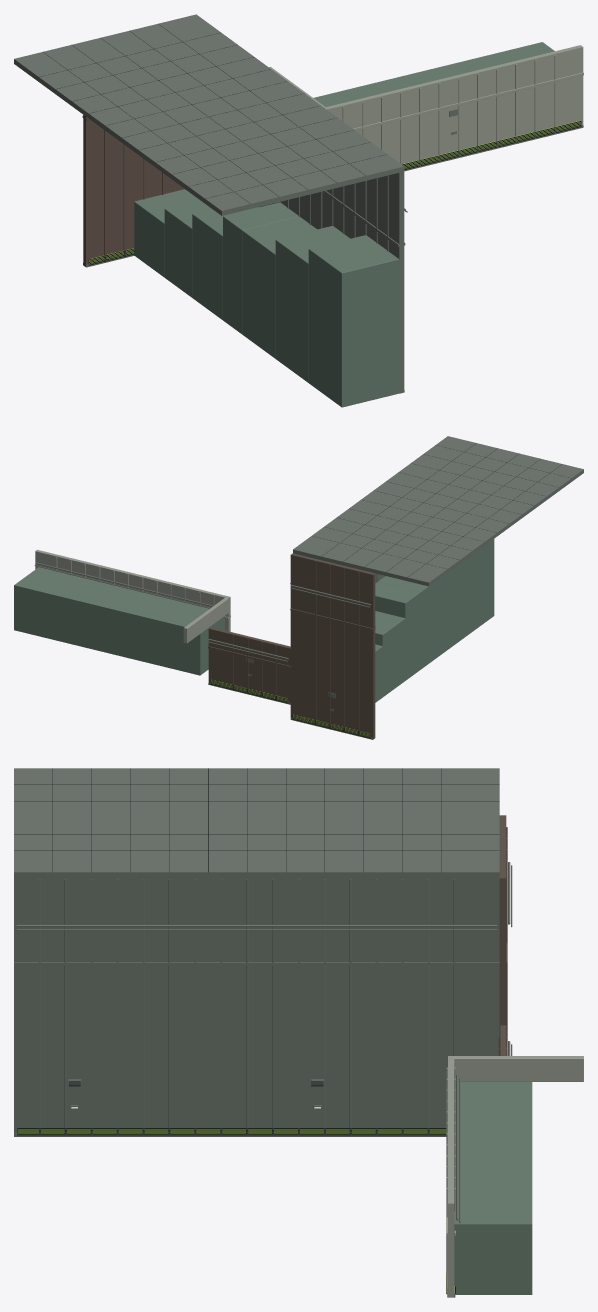
3 renders of one model, top to bottom at view 1: azimuth 30°, elevation 25°; view 2: azimuth 150°, elevation 25°; view 3: azimuth 270°, elevation 25°, orthographic. The views are drawn at different scales.
Parts seen in each view (by area): view 1: p0_m1; view 2: p0_m1; view 3: p0_m1.
Boxes of the visible parts, x1,y1,x2,y2 form: p0_m1: (14,14,583,407); p0_m1: (14,436,583,739); p0_m1: (14,768,583,1297).
Bounding box in the file's own units: 57 × 22.5 × 44.
